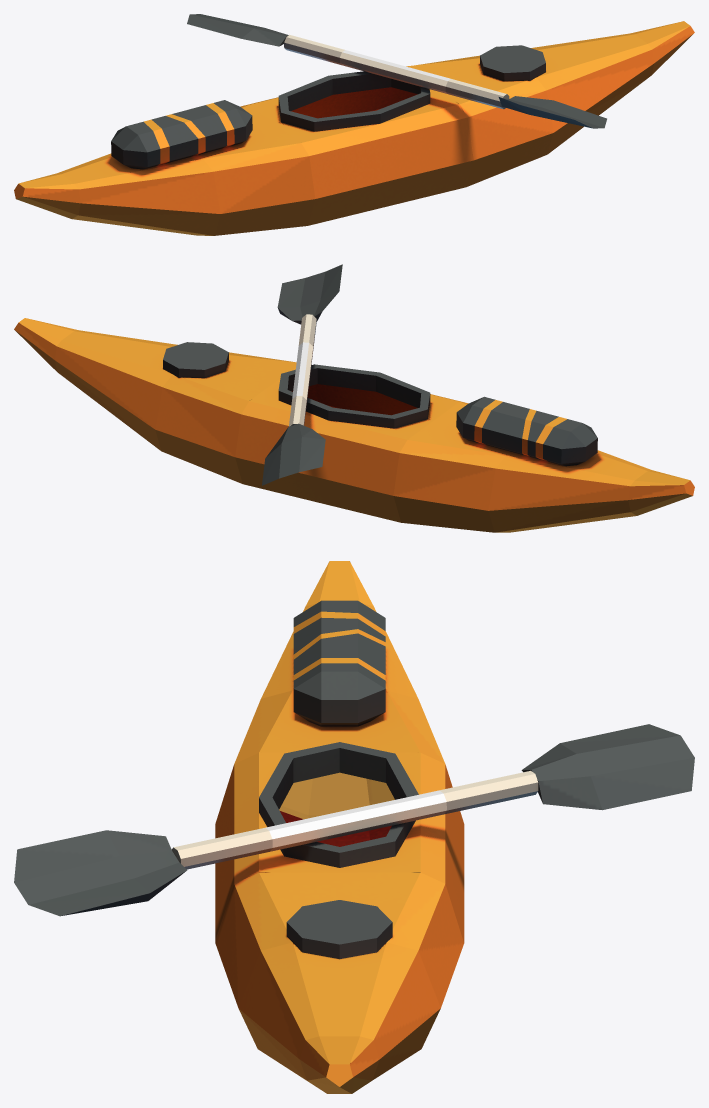
Rendered from PUSHILIN_Kayak.obj.
The picture shows the model from 3 angles, top to bottom: view 1: azimuth 30°, elevation 25°; view 2: azimuth 150°, elevation 25°; view 3: azimuth 270°, elevation 25°; orthographic projection. The views are drawn at different scales.
Visible parts, largest first — view 1: PUSHILIN_Kayak_Circle.003; view 2: PUSHILIN_Kayak_Circle.003; view 3: PUSHILIN_Kayak_Circle.003.
Part boxes in pixels (x1,y1,x2,y2): PUSHILIN_Kayak_Circle.003: (14,14,694,235); PUSHILIN_Kayak_Circle.003: (14,264,694,532); PUSHILIN_Kayak_Circle.003: (14,561,694,1093).
Size of the model in its own units: 3.94 by 0.7054 by 2.22.
1 material, 1 textured.
